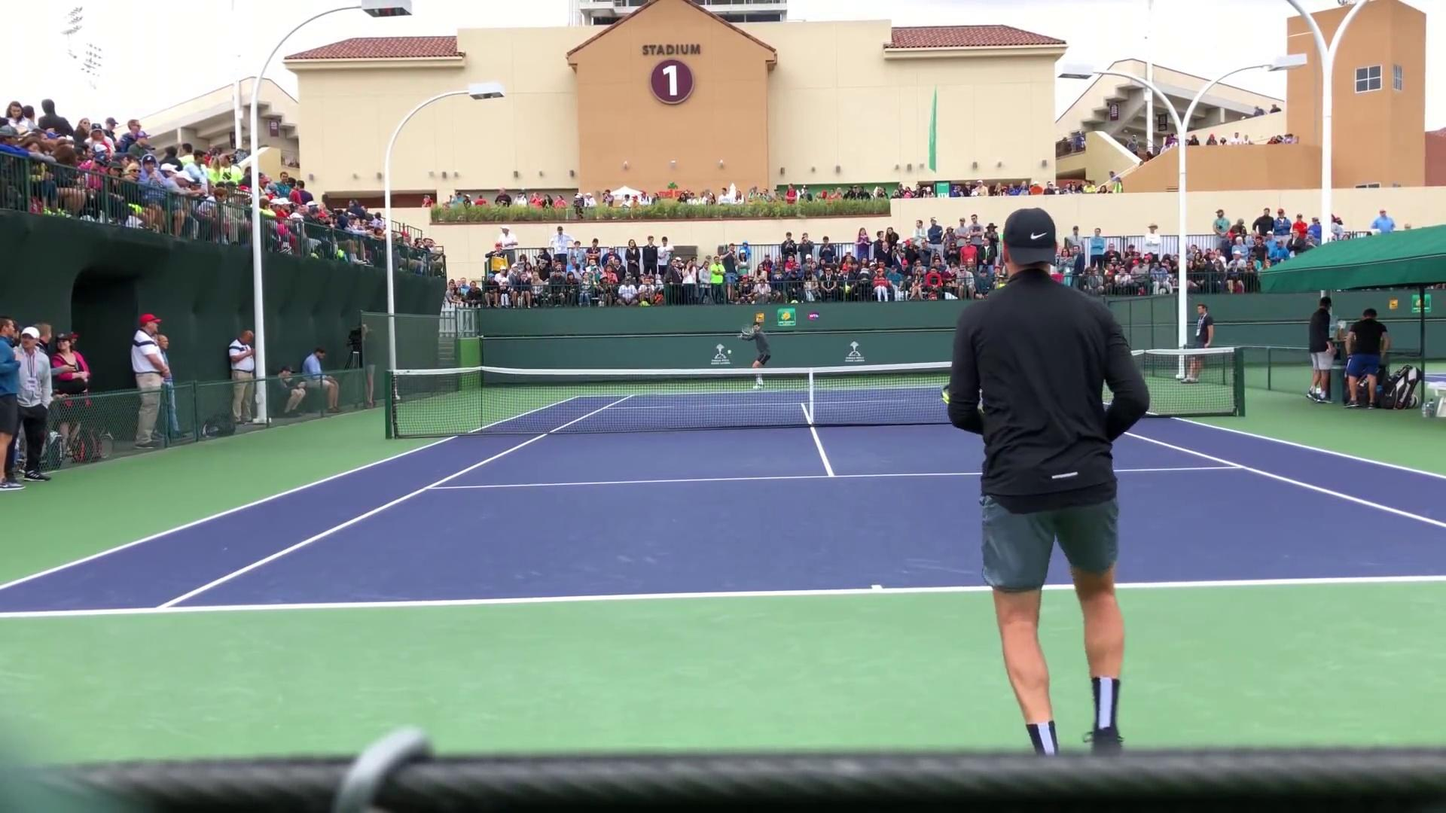ball: (727, 349, 732, 354)
